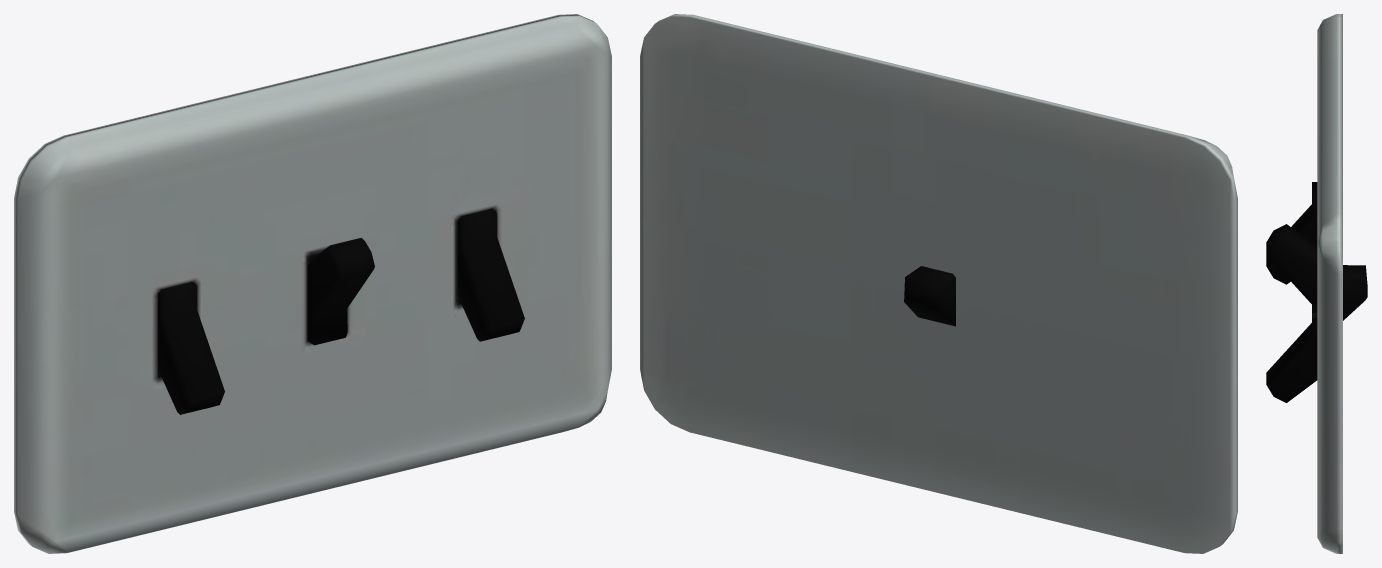
The picture shows the model from 3 angles, left to right: view 1: azimuth 30°, elevation 25°; view 2: azimuth 150°, elevation 25°; view 3: azimuth 270°, elevation 25°; orthographic projection. The views are drawn at different scales.
Size of the model in its own units: 5.13 by 3.42 by 0.9335.
Materials: 1 (1 with a texture image).
